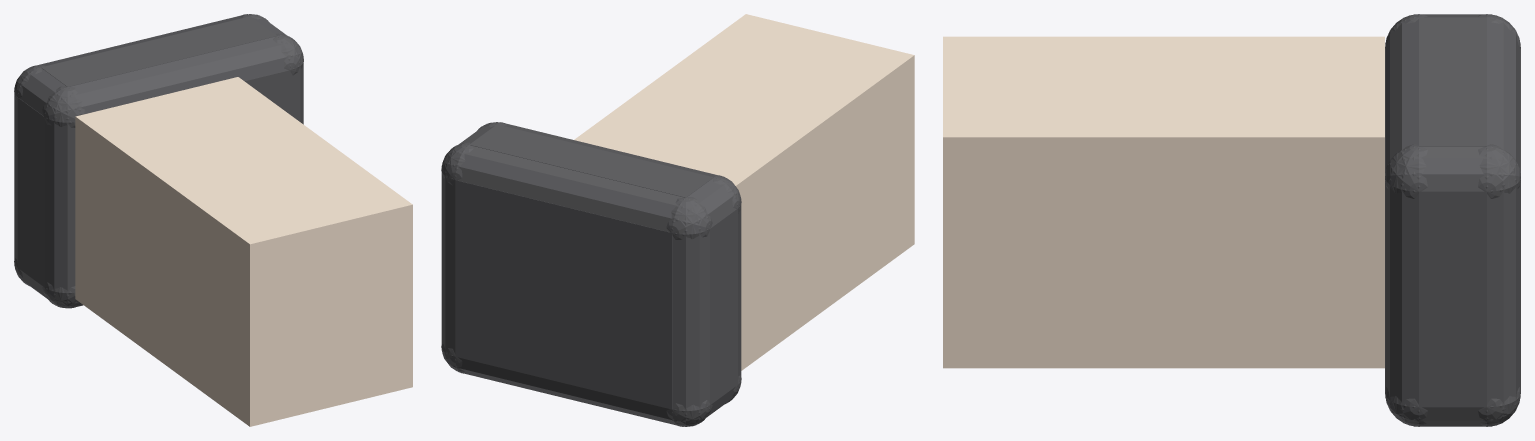
File: shin_left.glb
The picture shows the model from 3 angles, left to right: view 1: azimuth 30°, elevation 25°; view 2: azimuth 150°, elevation 25°; view 3: azimuth 270°, elevation 25°; orthographic projection. The views are drawn at different scales.
Visible parts, largest first — view 1: shin_left_visual, shoe_left_edge3_visual, shoe_left_edge5_visual, shoe_left_y_visual, shoe_left_x_visual, shoe_left_edge9_visual, shoe_left_z_visual, shoe_left_edge7_visual, shoe_left_edge2_visual, shoe_left_edge4_visual, shoe_left_edge11_visual, shoe_left_edge8_visual; view 2: shin_left_visual, shoe_left_z_visual, shoe_left_edge2_visual, shoe_left_edge4_visual, shoe_left_y_visual, shoe_left_x_visual, shoe_left_edge0_visual, shoe_left_edge6_visual, shoe_left_edge9_visual, shoe_left_edge3_visual, shoe_left_edge5_visual, shoe_left_edge8_visual (+1 smaller); view 3: shin_left_visual, shoe_left_x_visual, shoe_left_y_visual, shoe_left_edge6_visual, shoe_left_edge7_visual, shoe_left_edge2_visual, shoe_left_edge3_visual, shoe_left_edge11_visual, shoe_left_edge10_visual, shoe_left_z_visual, shoe_left_edge1_visual, shoe_left_edge0_visual.
Part boxes in pixels (x1,y1,x2,y2): shin_left_visual: (75, 77, 412, 426); shoe_left_edge3_visual: (42, 35, 303, 126); shoe_left_edge5_visual: (44, 86, 81, 308); shoe_left_y_visual: (41, 16, 276, 86); shoe_left_x_visual: (17, 97, 44, 287); shoe_left_edge9_visual: (14, 65, 85, 127); shoe_left_z_visual: (244, 70, 290, 114); shoe_left_edge7_visual: (273, 33, 303, 124); shoe_left_edge2_visual: (14, 14, 269, 101); shoe_left_edge4_visual: (14, 65, 44, 286); shoe_left_edge11_visual: (244, 14, 303, 75); shoe_left_edge8_visual: (14, 262, 80, 307); shin_left_visual: (574, 14, 914, 370); shoe_left_z_visual: (455, 180, 672, 409); shoe_left_edge2_visual: (441, 144, 712, 239); shoe_left_edge4_visual: (671, 197, 709, 426); shoe_left_y_visual: (469, 124, 713, 197); shoe_left_x_visual: (710, 208, 737, 404); shoe_left_edge0_visual: (441, 344, 712, 426); shoe_left_edge6_visual: (441, 142, 473, 373); shoe_left_edge9_visual: (666, 175, 741, 239); shoe_left_edge3_visual: (477, 122, 741, 213); shoe_left_edge5_visual: (709, 175, 741, 403); shoe_left_edge8_visual: (666, 378, 741, 426); shin_left_visual: (943, 36, 1384, 368); shoe_left_x_visual: (1419, 191, 1486, 407); shoe_left_y_visual: (1419, 17, 1486, 146); shoe_left_edge6_visual: (1478, 144, 1520, 426); shoe_left_edge7_visual: (1385, 144, 1427, 426); shoe_left_edge2_visual: (1478, 14, 1520, 198); shoe_left_edge3_visual: (1385, 14, 1427, 198); shoe_left_edge11_visual: (1385, 146, 1520, 193); shoe_left_edge10_visual: (1385, 387, 1520, 426); shoe_left_z_visual: (1385, 48, 1520, 391); shoe_left_edge1_visual: (1385, 394, 1427, 426); shoe_left_edge0_visual: (1478, 394, 1520, 426).
Bounding box in the file's own units: 0.154 × 0.126 × 0.238.
